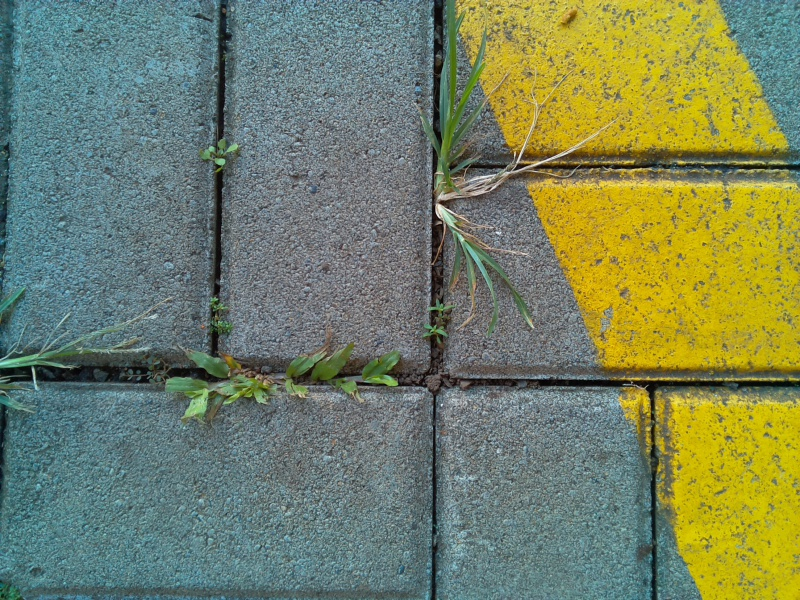Weed: (426, 33, 544, 202), (420, 204, 539, 317), (2, 305, 143, 396), (282, 329, 408, 416), (162, 342, 276, 425), (414, 302, 464, 354), (196, 136, 243, 174), (200, 292, 239, 337)
